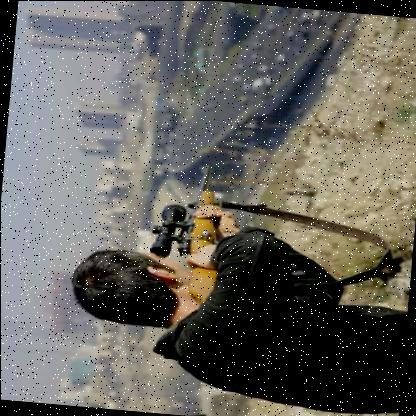rifle: (142, 153, 241, 312)
